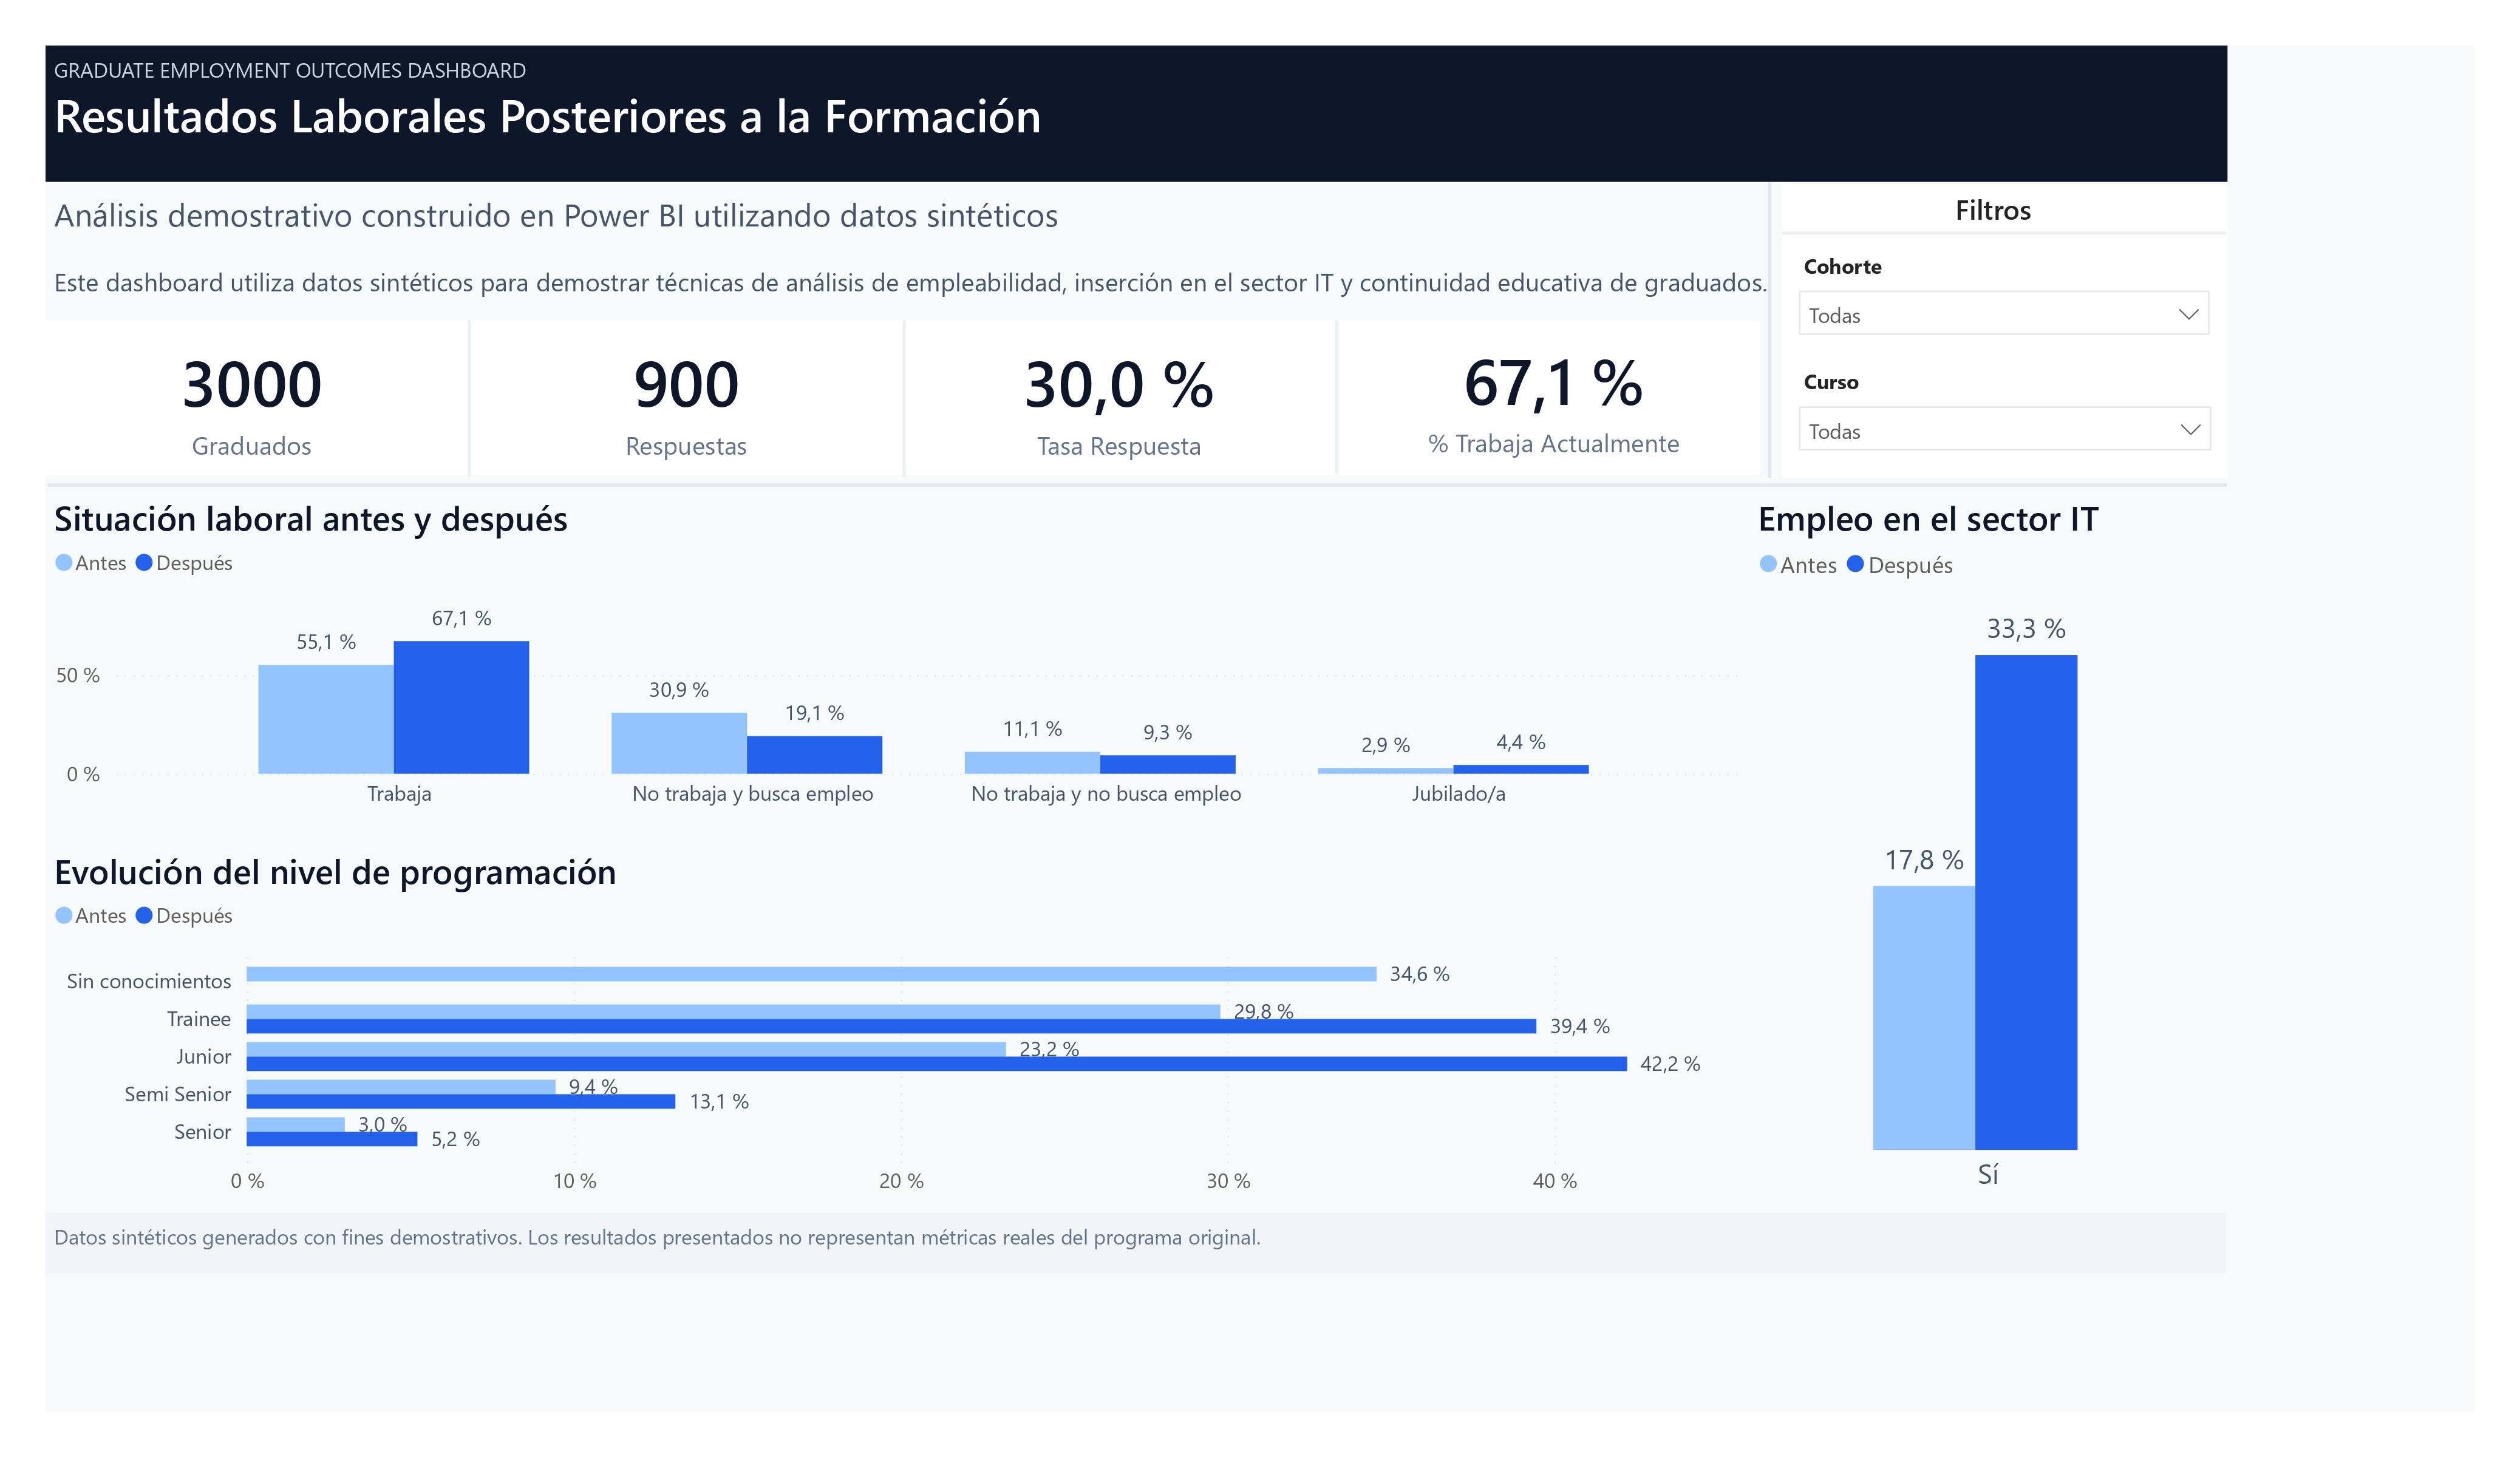

This screenshot's page, from the dashboard's own definition file:
{"tool":"powerbi","page":{"name":"Página 1","canvas":[1280,720],"ordinal":0},"visuals":[{"type":"shape","box":[0,161.6,1005.7,90.6],"z":0},{"type":"shape","box":[0,0,1280,80],"z":1000},{"type":"card","fields":{"Values":["medidas.Respuestas"]},"box":[254.6,161.7,242,91.7],"z":2000},{"type":"card","fields":{"Values":["medidas.Graduados"]},"box":[0,161.7,242,91.7],"z":3000},{"type":"card","fields":{"Values":["medidas.Tasa Respuesta"]},"box":[509.1,161.7,242.5,91.7],"z":4000},{"type":"card","fields":{"Values":["medidas.% Trabaja Actualmente"]},"box":[763.7,160.5,242.5,91.7],"z":5000},{"type":"clusteredColumnChart","title":"Situación laboral antes y después","fields":{"Series":["Situacion Laboral.Momento"],"Y":["medidas.% Situación Laboral"],"Category":["Situacion Laboral.Situación laboral ES"]},"box":[0,263,1000.1,195],"z":6000},{"type":"clusteredColumnChart","title":"Empleo en el sector IT","fields":{"Category":["Empleo IT.IT"],"Series":["Empleo IT.Momento"],"Y":["medidas.% Empleo IT"]},"box":[1000.1,263,279.9,421],"z":7000},{"type":"clusteredBarChart","title":"Evolución del nivel de programación","fields":{"Category":["Nivel Programación.Nivel ES"],"Series":["Nivel Programación.Momento"],"Y":["medidas.% Nivel Programación"]},"box":[0,469.3,1000.1,215],"z":8000},{"type":"textbox","box":[0,0,692.5,63.8],"z":9000},{"type":"textbox","box":[0,81.1,1018.2,74.2],"z":10000},{"type":"shape","box":[242.5,161.7,12.1,91.7],"z":11000},{"type":"shape","box":[751.6,161.7,12.1,90.5],"z":12000},{"type":"shape","box":[497.1,161.7,12.1,91.7],"z":13000},{"type":"shape","box":[1018.2,79.6,261.8,173.7],"z":14000},{"type":"textbox","box":[1116,79.6,66.4,36.2],"z":15000},{"type":"slicer","fields":{"Values":["graduates_synthetic.cohort"]},"box":[1018.2,115.8,261,68],"z":16000},{"type":"slicer","fields":{"Values":["graduates_synthetic.course"]},"box":[1018.2,183.4,261.8,70],"z":17000},{"type":"shape","box":[1005.7,79.9,12.6,173.6],"z":18000},{"type":"shape","box":[1018.2,105,260.6,10.9],"z":19000},{"type":"shape","box":[1,251.5,1278.6,12.6],"z":20000},{"type":"textbox","box":[0,684.1,1278.8,36.2],"z":21000}]}

Visuals, with their boxes on the page's 1280x720 design canvas (x1, y1, x2, y2). These are canvas units, not pixel positions in the 2520x1457 screenshot, which may show the page scaled, cropped or inside an application window:
shape: [0,162,1006,252]
shape: [0,0,1280,80]
card - medidas.Respuestas: [255,162,497,253]
card - medidas.Graduados: [0,162,242,253]
card - medidas.Tasa Respuesta: [509,162,752,253]
card - medidas.% Trabaja Actualmente: [764,160,1006,252]
"Situación laboral antes y después" clusteredColumnChart: [0,263,1000,458]
"Empleo en el sector IT" clusteredColumnChart: [1000,263,1280,684]
"Evolución del nivel de programación" clusteredBarChart: [0,469,1000,684]
textbox: [0,0,692,64]
textbox: [0,81,1018,155]
shape: [242,162,255,253]
shape: [752,162,764,252]
shape: [497,162,509,253]
shape: [1018,80,1280,253]
textbox: [1116,80,1182,116]
slicer - graduates_synthetic.cohort: [1018,116,1279,184]
slicer - graduates_synthetic.course: [1018,183,1280,253]
shape: [1006,80,1018,254]
shape: [1018,105,1279,116]
shape: [1,252,1280,264]
textbox: [0,684,1279,720]
